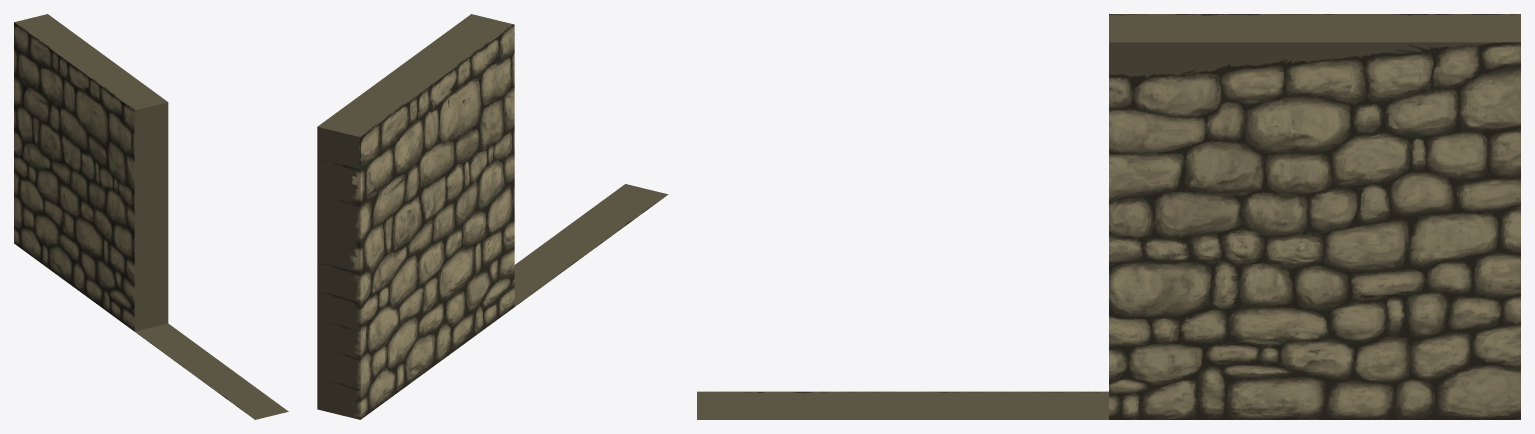
File: wallHalf.fbx
3 views of the same model, side by side, from view 1: azimuth 30°, elevation 25°; view 2: azimuth 150°, elevation 25°; view 3: azimuth 270°, elevation 25° (orthographic). The views are drawn at different scales.
Visible parts, largest first — view 1: wall; view 2: wall; view 3: wall.
Part boxes in pixels (x1,y1,x2,y2): wall: (14, 14, 288, 419); wall: (317, 14, 668, 419); wall: (697, 14, 1520, 419).
Size of the model in its own units: 0.6458 by 4.04 by 7.98.
